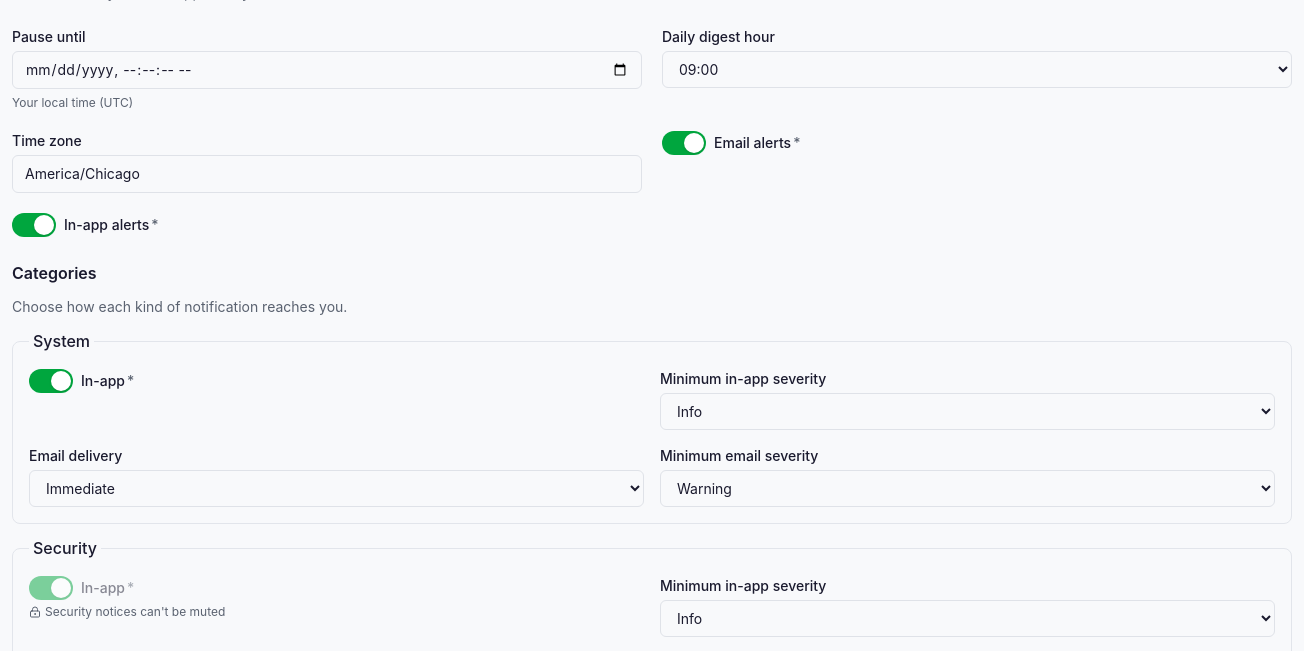
Test: displays the backend BasicErrorResponseV1 error string without losing edits
The image size is (1304, 651).
Replace the text in the field labelled "Time zone" with "invalid" at (327, 174), box [12,155,642,193]
(page scrolled)
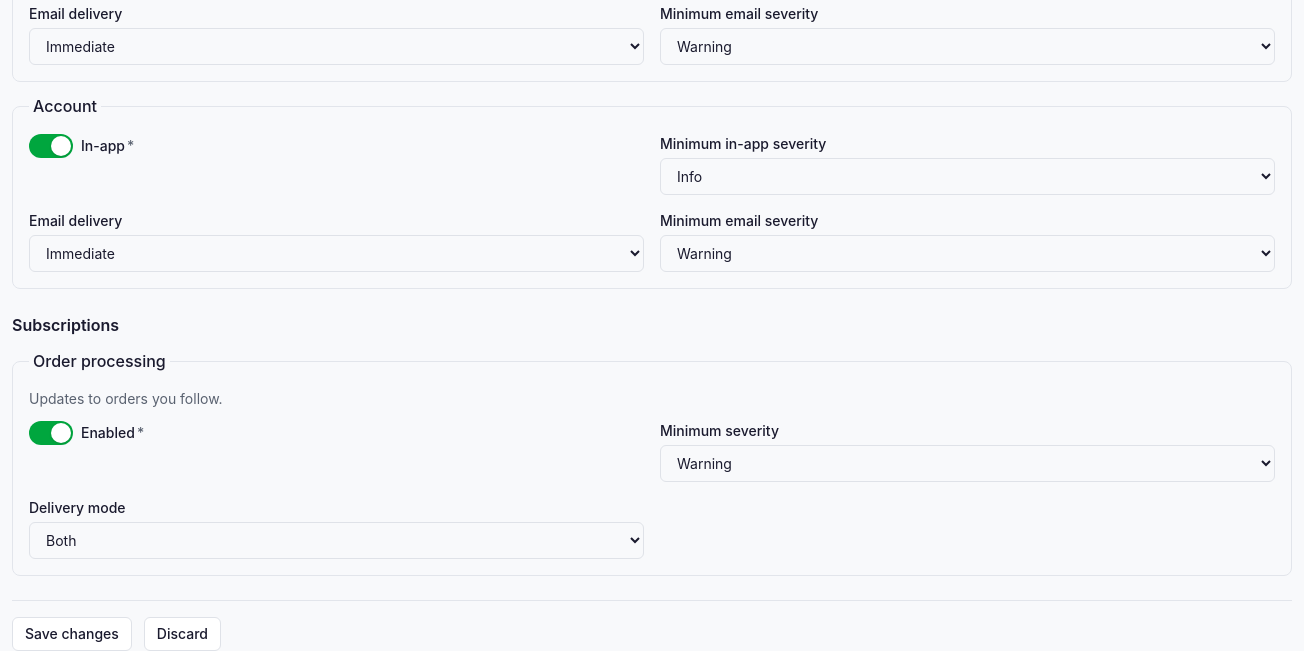
Click the button "Save changes" at (72, 634), box [12,617,132,650]
(page scrolled)
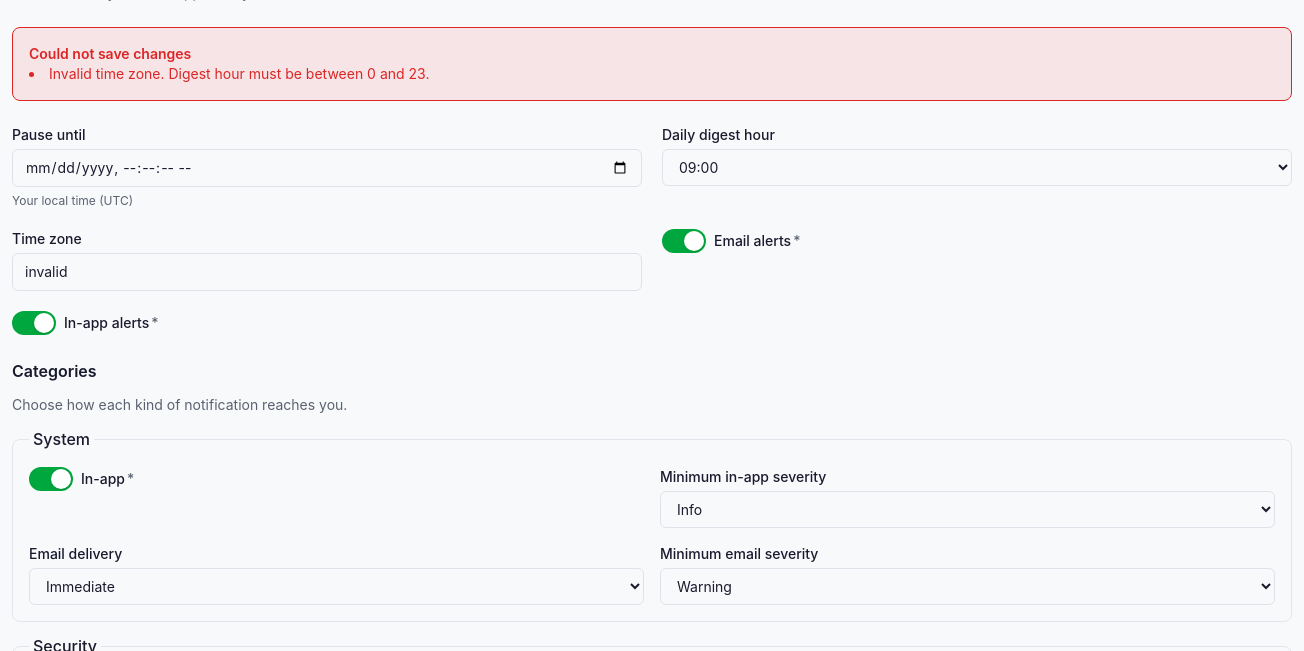
expect the message shows "Invalid time zone. Digest hour must be between 0 and 23.": met, box [49,65,430,82]
